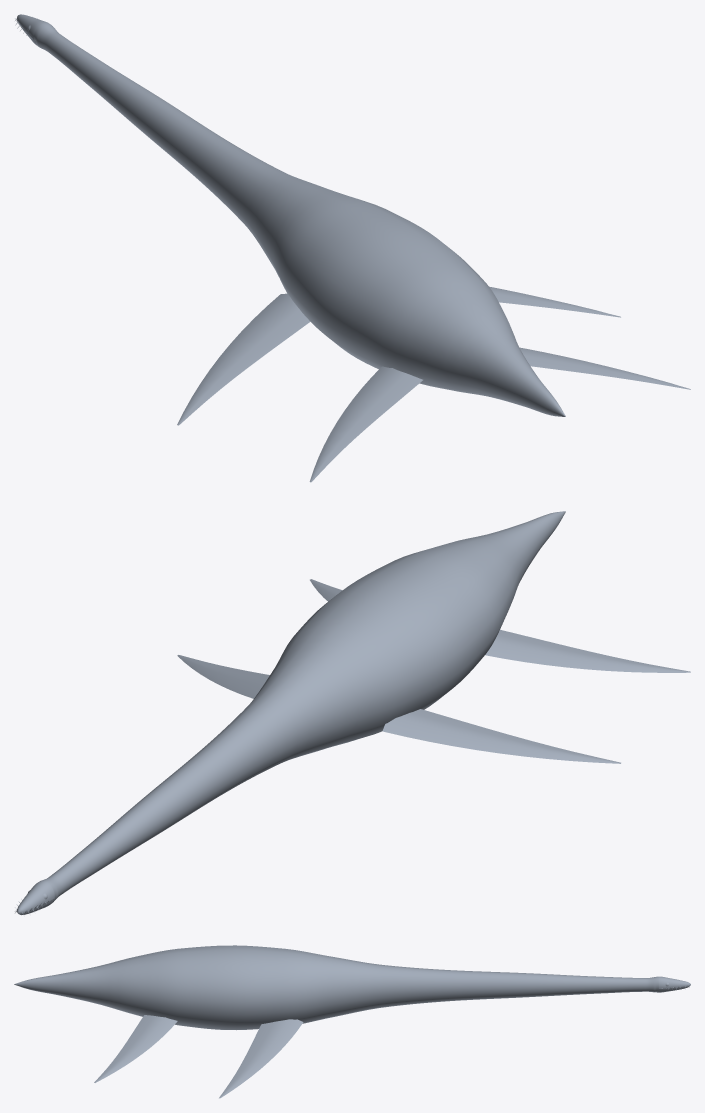
The model's file is plesiosaur_lo.glb.
3 renders of one model, top to bottom at view 1: azimuth 30°, elevation 25°; view 2: azimuth 150°, elevation 25°; view 3: azimuth 270°, elevation 25°, orthographic. The views are drawn at different scales.
Visible parts, largest first — view 1: plesiosaur_lo; view 2: plesiosaur_lo; view 3: plesiosaur_lo.
Part boxes in pixels (x1,y1,x2,y2): plesiosaur_lo: [15, 14, 690, 482]; plesiosaur_lo: [15, 511, 690, 915]; plesiosaur_lo: [14, 945, 690, 1098].
Bounding box in the file's own units: 4.22 × 1.19 × 9.01.
